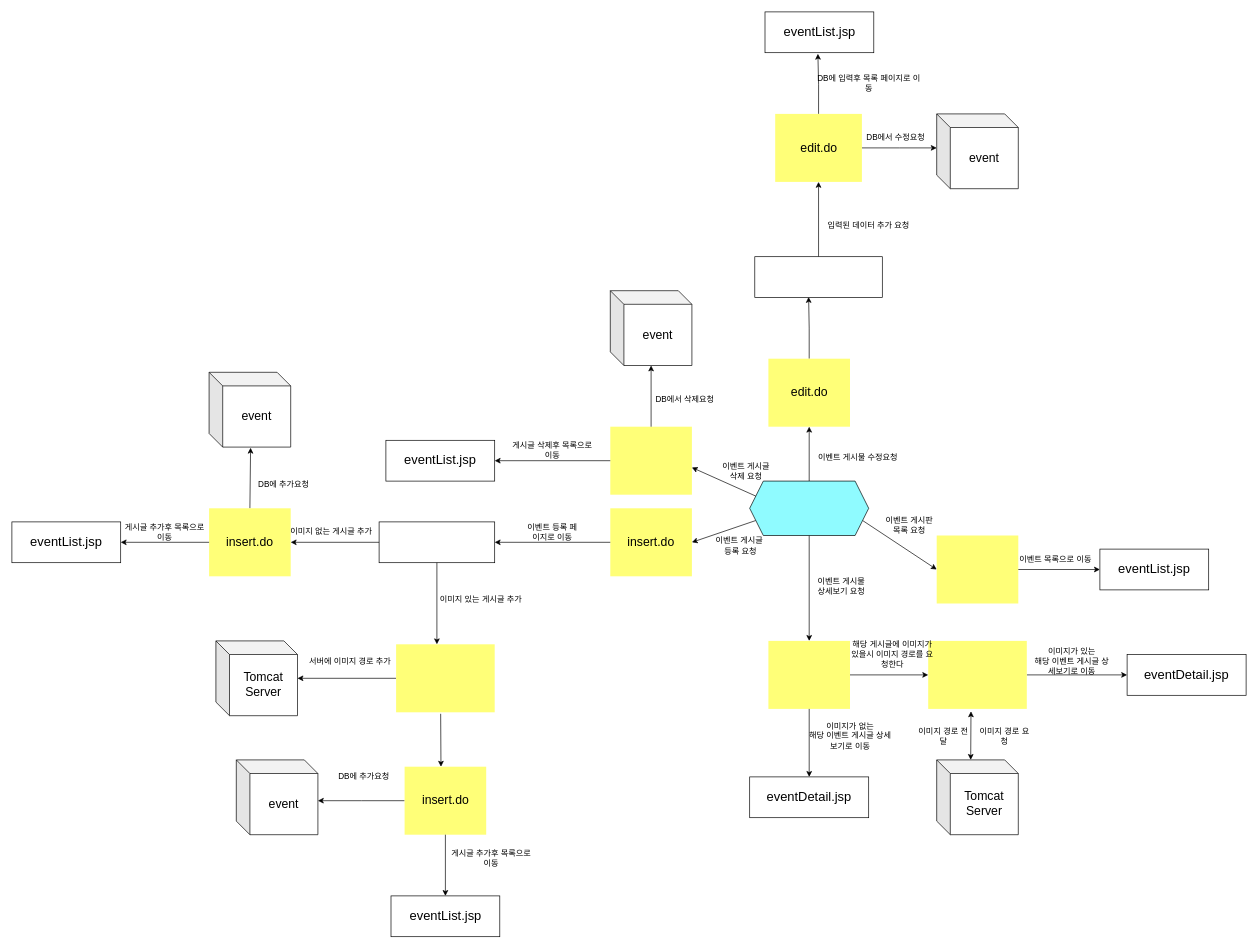
The diagram is 1258 pixels wide and 949 high, and some of its shapes have lost their labels. Here are the shapes that lost their labels. From the top down, the centre of each, then its label:
(x=818, y=277): eventUpdate.do
(x=651, y=460): delete.do
(x=809, y=508): eventController
(x=436, y=542): eventInsert.jsp
(x=977, y=569): list.do
(x=445, y=678): imageUpload.do
(x=809, y=675): detail.do
(x=977, y=675): ckImgSubmit.do
